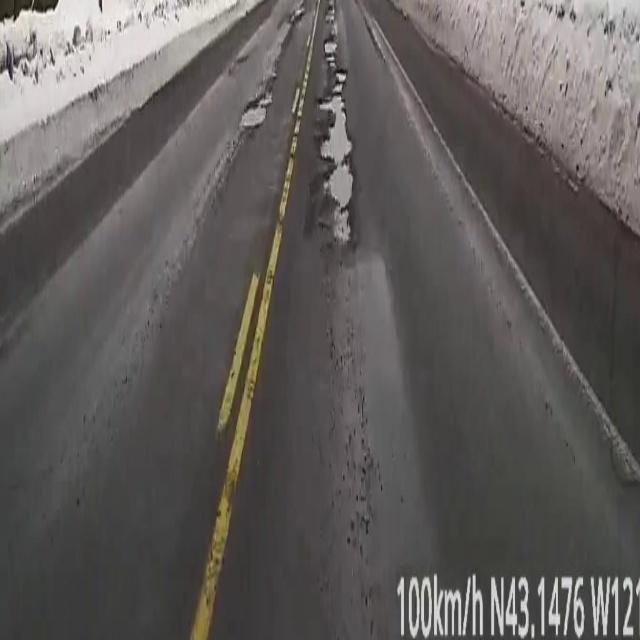pothole: (317, 0, 353, 247), (241, 91, 271, 129)
